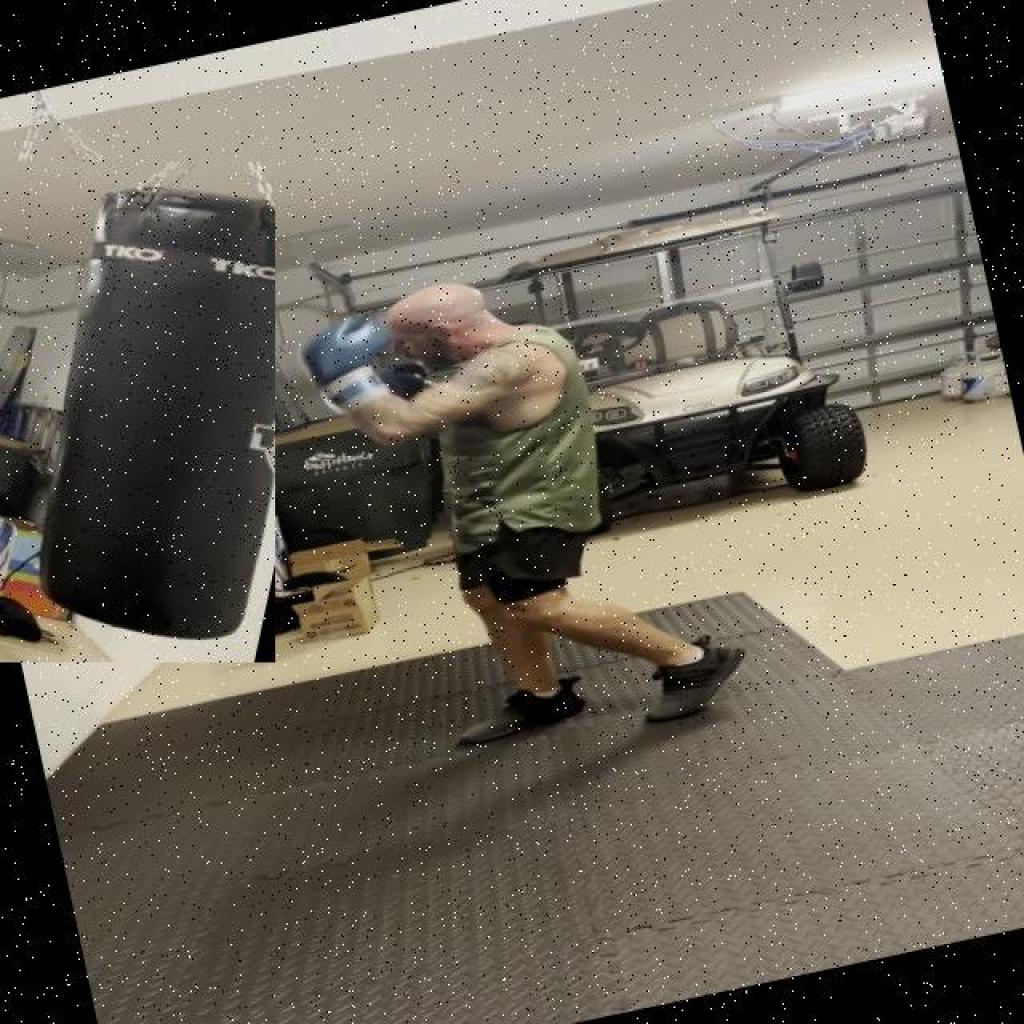bag: (0, 148, 275, 670), (0, 162, 275, 662)
uppercut: (272, 242, 627, 483)
